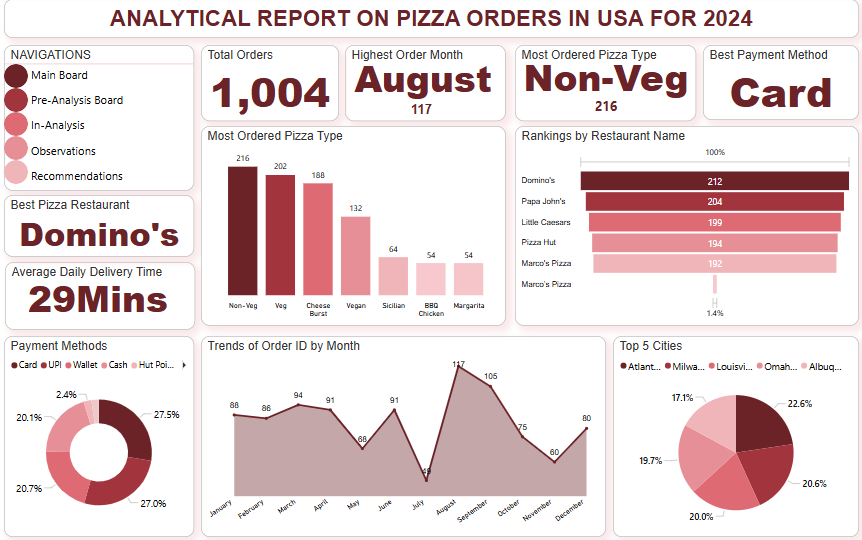

What the dashboard file says about the page in this screenshot:
{"tool":"powerbi","page":{"name":"Mainboard","canvas":[1450,907],"ordinal":0},"visuals":[{"type":"textbox","box":[13.3,0,1425,65],"z":0},{"type":"textbox","title":"Highest Order Month","box":[581.7,76.7,268.3,126.7],"z":1000},{"type":"textbox","title":"NAVIGATIONS","box":[13.3,76.7,316.7,243.3],"z":2000},{"type":"textbox","title":"Average Daily Delivery Time","box":[15,438.3,316.7,113.3],"z":3000},{"type":"textbox","title":"Most Ordered Pizza Type","box":[865,76.7,301.7,126.7],"z":4000},{"type":"card","title":"Total Orders","fields":{"Values":["Count(Pizza Sales Dataset.Order ID)"]},"box":[341.7,76.7,230,126.7],"z":5000},{"type":"areaChart","title":"Trends of Order ID by Month","fields":{"Category":["Pizza Sales Dataset.Order Time.Variation.Date Hierarchy.Month"],"Y":["CountNonNull(Pizza Sales Dataset.Order ID)"]},"box":[341.7,561.7,675,335],"z":6000},{"type":"card","fields":{"Values":["Min(Pizza Sales Dataset.Order Month)"]},"box":[590,78.3,243.3,101.7],"z":7000},{"type":"textbox","box":[630,168.3,163.3,35],"z":8000},{"type":"card","title":"Best Payment Method","fields":{"Values":["Min(Pizza Sales Dataset.Payment Method)"]},"box":[1178.3,76.7,260,125],"z":9000},{"type":"card","fields":{"Values":["Avg(Pizza Sales Dataset.Delivery Duration (min))"]},"box":[25,456.7,290,76.7],"z":10000},{"type":"card","fields":{"Values":["Min(Pizza Sales Dataset.Pizza Type)"]},"box":[871.7,80,290,95],"z":11000},{"type":"textbox","box":[935,158.3,163.3,41.7],"z":12000},{"type":"donutChart","title":"Payment Methods","fields":{"Category":["Pizza Sales Dataset.Payment Method"],"Y":["CountNonNull(Pizza Sales Dataset.Order ID)"]},"box":[13.3,561.7,316.7,335],"z":13000},{"type":"card","title":"Best Pizza Restaurant","fields":{"Values":["Min(Pizza Sales Dataset.Restaurant Name)"]},"box":[13.3,326.7,316.7,103.3],"z":14000},{"type":"clusteredColumnChart","title":"Most Ordered Pizza Type","fields":{"Category":["Pizza Sales Dataset.Pizza Type"],"Y":["CountNonNull(Pizza Sales Dataset.Order ID)"]},"box":[341.7,211.7,508.3,333.3],"z":15000},{"type":"funnel","title":"Rankings by Restaurant Name","fields":{"Category":["Pizza Sales Dataset.Restaurant Name"],"Y":["CountNonNull(Pizza Sales Dataset.Order ID)"]},"box":[865,211.7,573.3,333.3],"z":16000},{"type":"pieChart","title":"Top 5 Cities","fields":{"Category":["Pizza Sales Dataset.Location"],"Y":["CountNonNull(Pizza Sales Dataset.Order ID)"]},"box":[1028.3,561.7,410,335],"z":17000},{"type":"shape","box":[13.3,108.3,40,40],"z":18000},{"type":"shape","box":[13.3,148.3,40,40],"z":19000},{"type":"shape","box":[13.3,268.3,40,40],"z":20000},{"type":"shape","box":[13.3,228.3,40,40],"z":21000},{"type":"shape","box":[13.3,188.3,40,40],"z":22000},{"type":"textbox","box":[53.3,108.3,276.7,211.7],"z":23000}]}

Visuals, with their boxes in screenshot pixels (x1, y1, x2, y2), scaled from the page's 1450x907 canvas onto the 862x540 screenshot:
textbox: bbox=(8, 0, 855, 39)
"Highest Order Month" textbox: bbox=(346, 46, 505, 121)
"NAVIGATIONS" textbox: bbox=(8, 46, 196, 191)
"Average Daily Delivery Time" textbox: bbox=(9, 261, 197, 328)
"Most Ordered Pizza Type" textbox: bbox=(514, 46, 694, 121)
"Total Orders" card: bbox=(203, 46, 340, 121)
"Trends of Order ID by Month" areaChart: bbox=(203, 334, 604, 534)
card - Min(Pizza Sales Dataset.Order Month): bbox=(351, 47, 495, 107)
textbox: bbox=(375, 100, 472, 121)
"Best Payment Method" card: bbox=(700, 46, 855, 120)
card - Avg(Pizza Sales Dataset.Delivery Duration (min)): bbox=(15, 272, 187, 318)
card - Min(Pizza Sales Dataset.Pizza Type): bbox=(518, 48, 691, 104)
textbox: bbox=(556, 94, 653, 119)
"Payment Methods" donutChart: bbox=(8, 334, 196, 534)
"Best Pizza Restaurant" card: bbox=(8, 195, 196, 256)
"Most Ordered Pizza Type" clusteredColumnChart: bbox=(203, 126, 505, 324)
"Rankings by Restaurant Name" funnel: bbox=(514, 126, 855, 324)
"Top 5 Cities" pieChart: bbox=(611, 334, 855, 534)
shape: bbox=(8, 64, 32, 88)
shape: bbox=(8, 88, 32, 112)
shape: bbox=(8, 160, 32, 184)
shape: bbox=(8, 136, 32, 160)
shape: bbox=(8, 112, 32, 136)
textbox: bbox=(32, 64, 196, 191)
